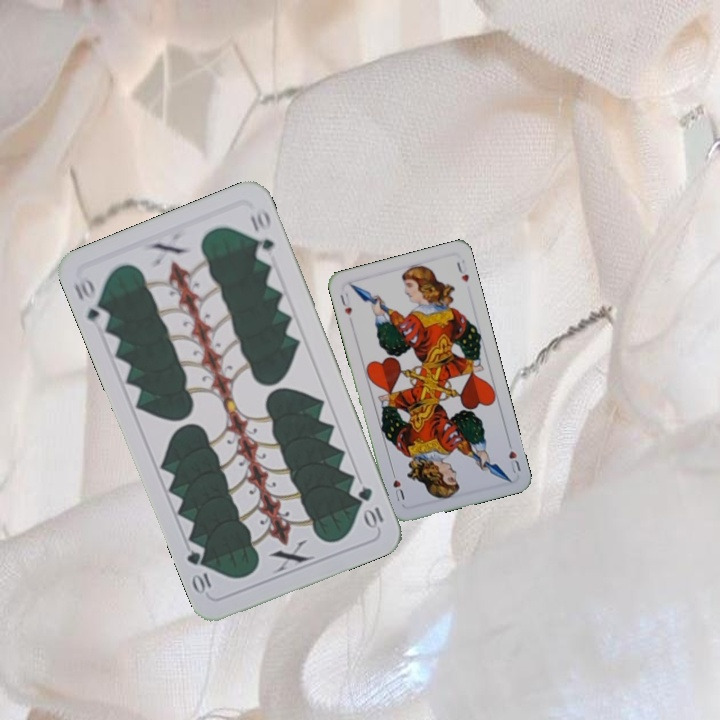G10: (70, 272, 112, 331), (354, 482, 386, 531)
HU: (504, 436, 523, 476), (336, 289, 354, 318)
